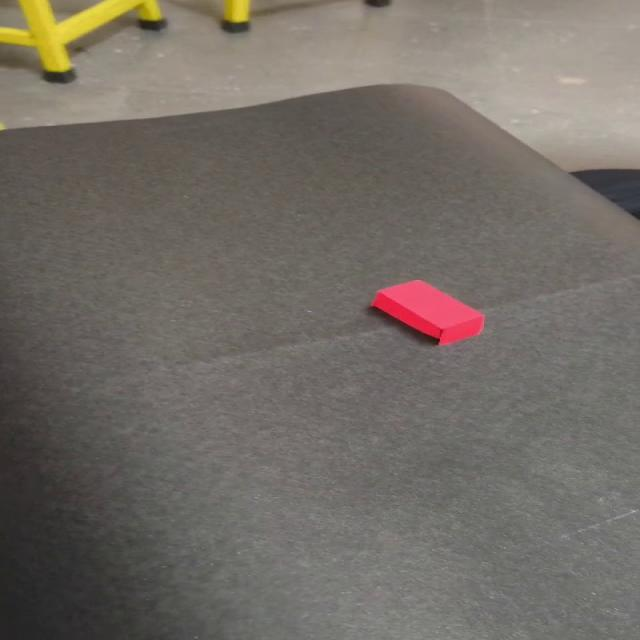red block: (368, 279, 485, 345)
